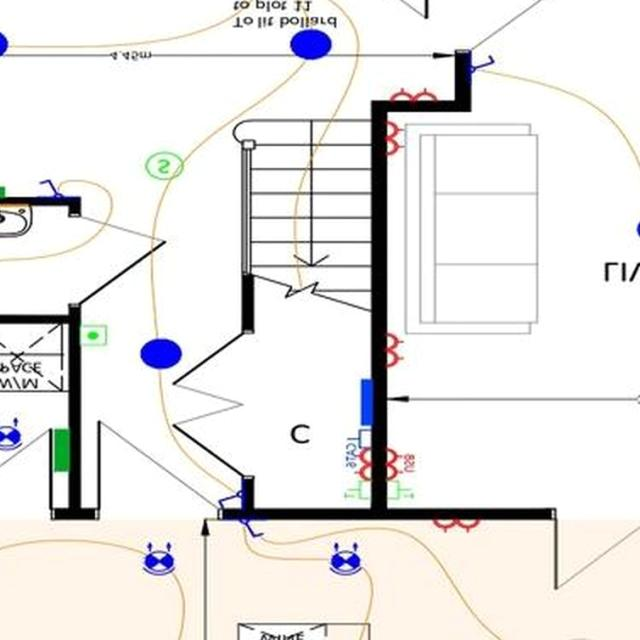Double Socket: (390, 87, 436, 102), (385, 122, 404, 156), (433, 520, 479, 534), (386, 334, 403, 368), (355, 448, 371, 481)
Light Switch: (470, 55, 494, 74), (39, 180, 63, 199), (239, 520, 263, 539), (217, 491, 241, 509)
Low Energy Downlighter: (142, 543, 175, 577), (329, 543, 361, 577), (0, 418, 21, 452)
Low Energy Pendant Light: (141, 339, 181, 369), (290, 31, 331, 60), (0, 30, 8, 60)
Mains Wired Smoke Detector: (145, 154, 183, 180)
Programmable Room Thermostat: (79, 326, 106, 347)
Radiator: (53, 430, 69, 471), (0, 188, 4, 198)
Telephone Socket: (386, 481, 414, 501), (344, 481, 370, 502)
USB Double Socket: (386, 449, 414, 481)
Underfloor Heating Manifold: (360, 380, 371, 426)
